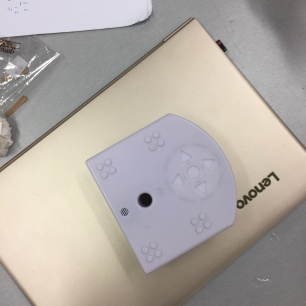thymio: (82, 108, 245, 273)
